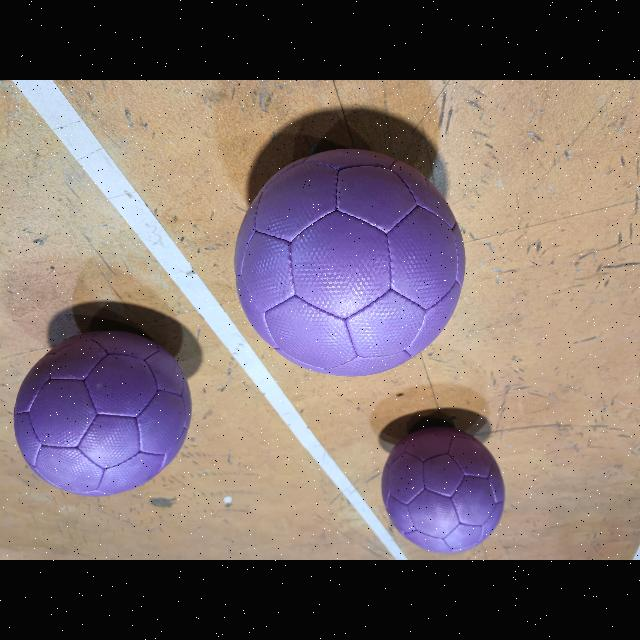P: (234, 149, 466, 377), (13, 330, 191, 496), (382, 426, 504, 554)
